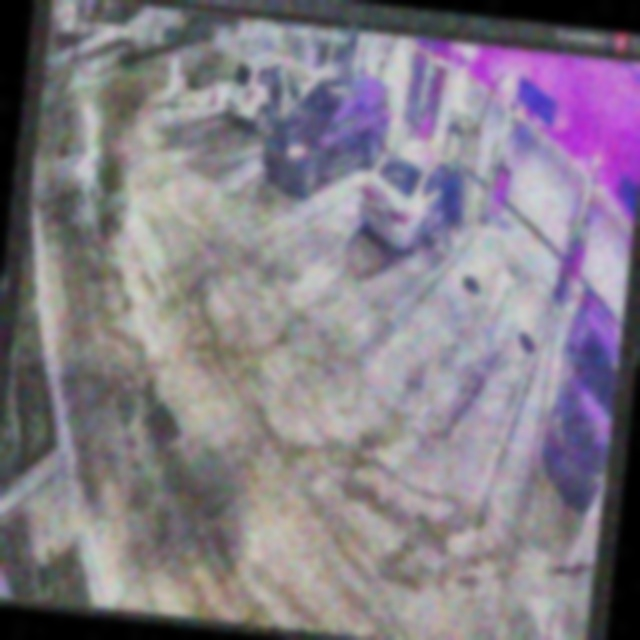Car: (258, 61, 396, 205), (355, 132, 473, 259)
